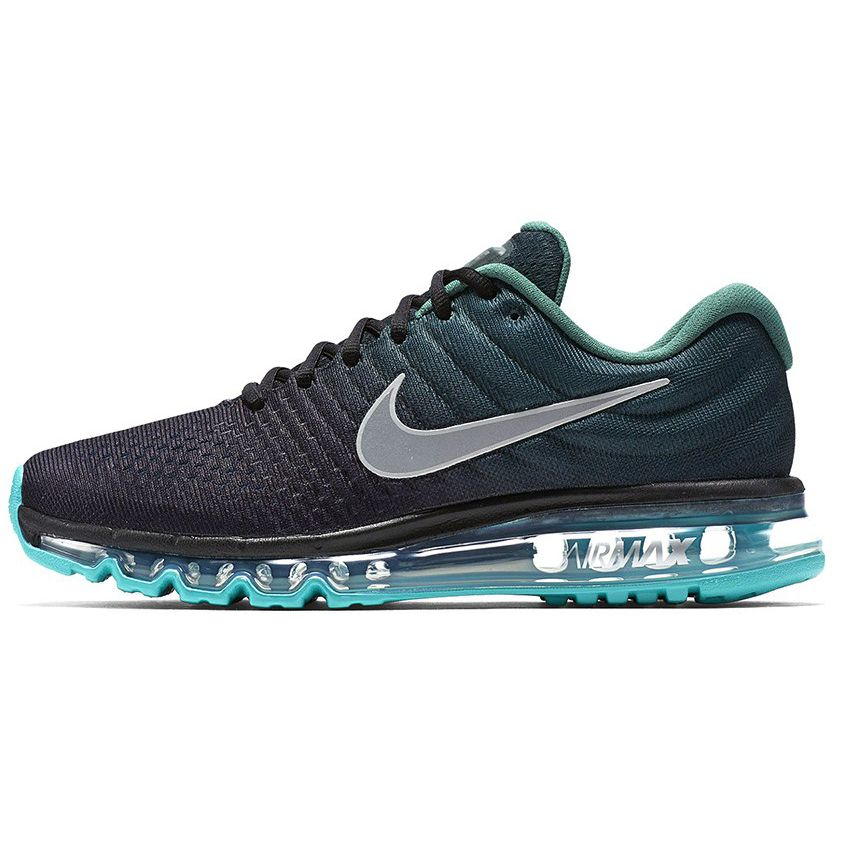nike: (354, 365, 671, 474)
